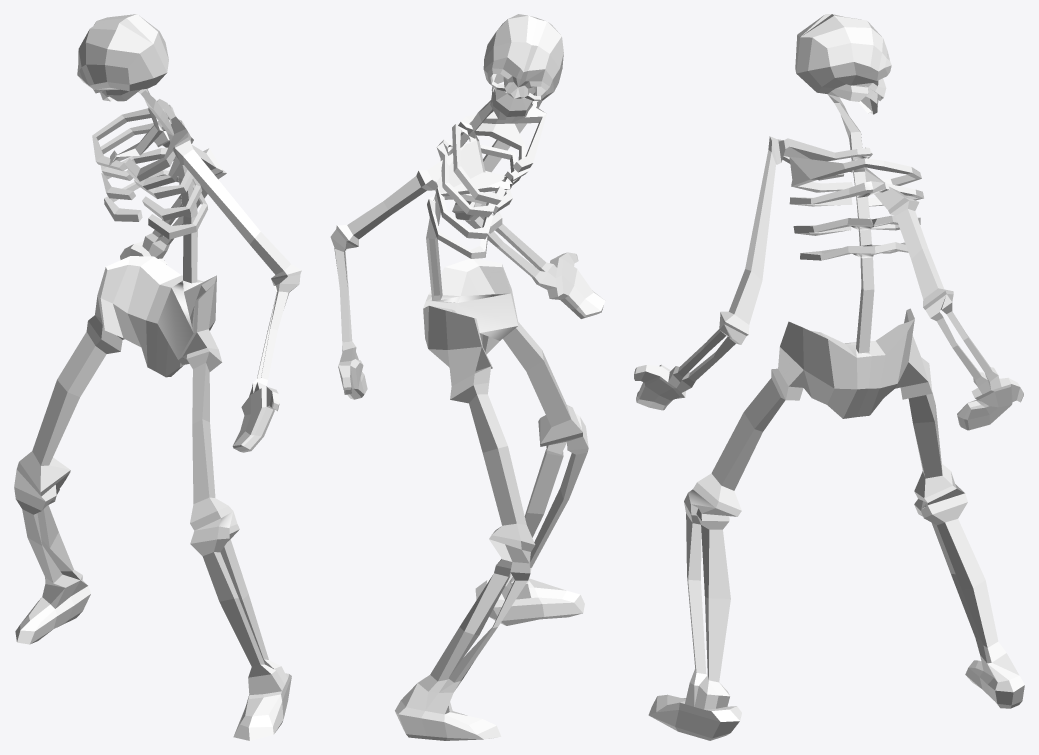
File: SkeletonIdle(67).obj
3 views of the same model, side by side, from view 1: azimuth 30°, elevation 25°; view 2: azimuth 150°, elevation 25°; view 3: azimuth 270°, elevation 25° (orthographic).
Parts seen in each view (by area): view 1: Object002; view 2: Object002; view 3: Object002.
Part boxes in pixels (left/top/right/bottom): Object002: left=14, top=14, right=301, bottom=740; Object002: left=330, top=14, right=605, bottom=740; Object002: left=634, top=14, right=1024, bottom=740.
Bounding box in the file's own units: 362 × 1130 × 590.
